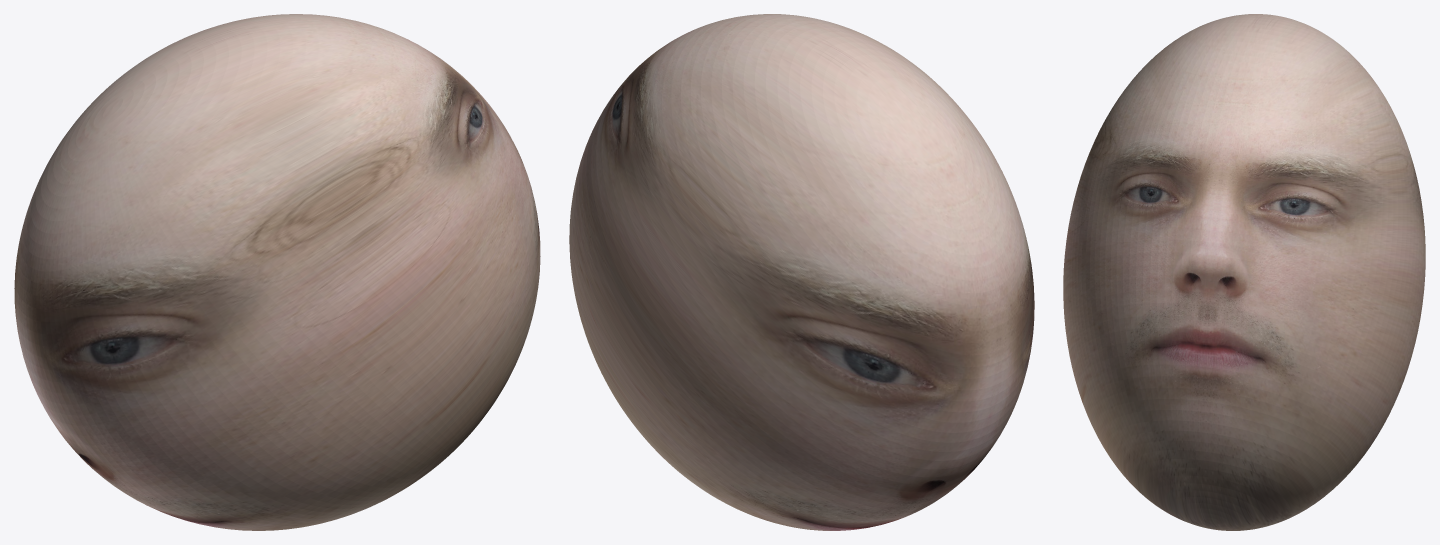
File: head.glb
The picture shows the model from 3 angles, left to right: view 1: azimuth 30°, elevation 25°; view 2: azimuth 150°, elevation 25°; view 3: azimuth 270°, elevation 25°; orthographic projection. The views are drawn at different scales.
Visible parts, largest first — view 1: Sphere.002; view 2: Sphere.002; view 3: Sphere.002.
Boxes of the visible parts, <box> form: Sphere.002: <box>14,14,540,530</box>; Sphere.002: <box>569,14,1034,530</box>; Sphere.002: <box>1063,14,1425,530</box>.
Bounding box in the file's own units: 1.98 × 2 × 1.4.
1 material, 1 textured.
